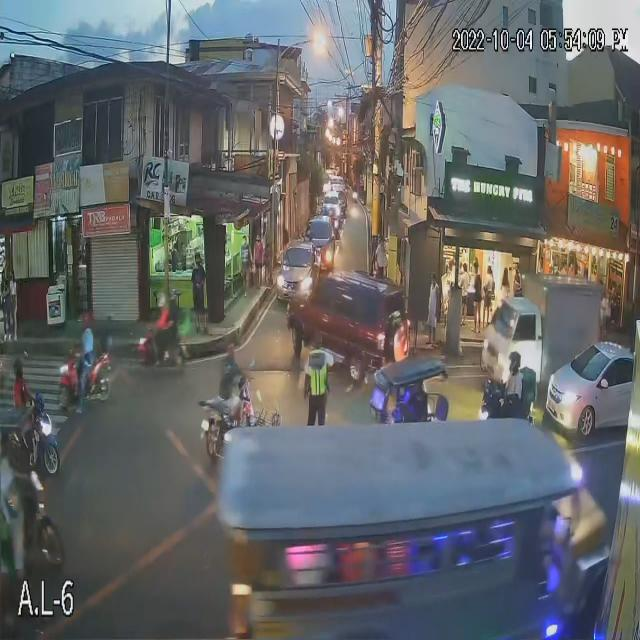helmet: (507, 348, 523, 374), (12, 356, 27, 380), (76, 312, 92, 330)
motorcycle: (200, 375, 260, 455), (54, 352, 118, 405), (27, 394, 63, 475), (475, 393, 535, 420)
rider: (216, 356, 247, 433), (77, 330, 95, 414), (503, 372, 523, 418), (12, 380, 34, 408)
